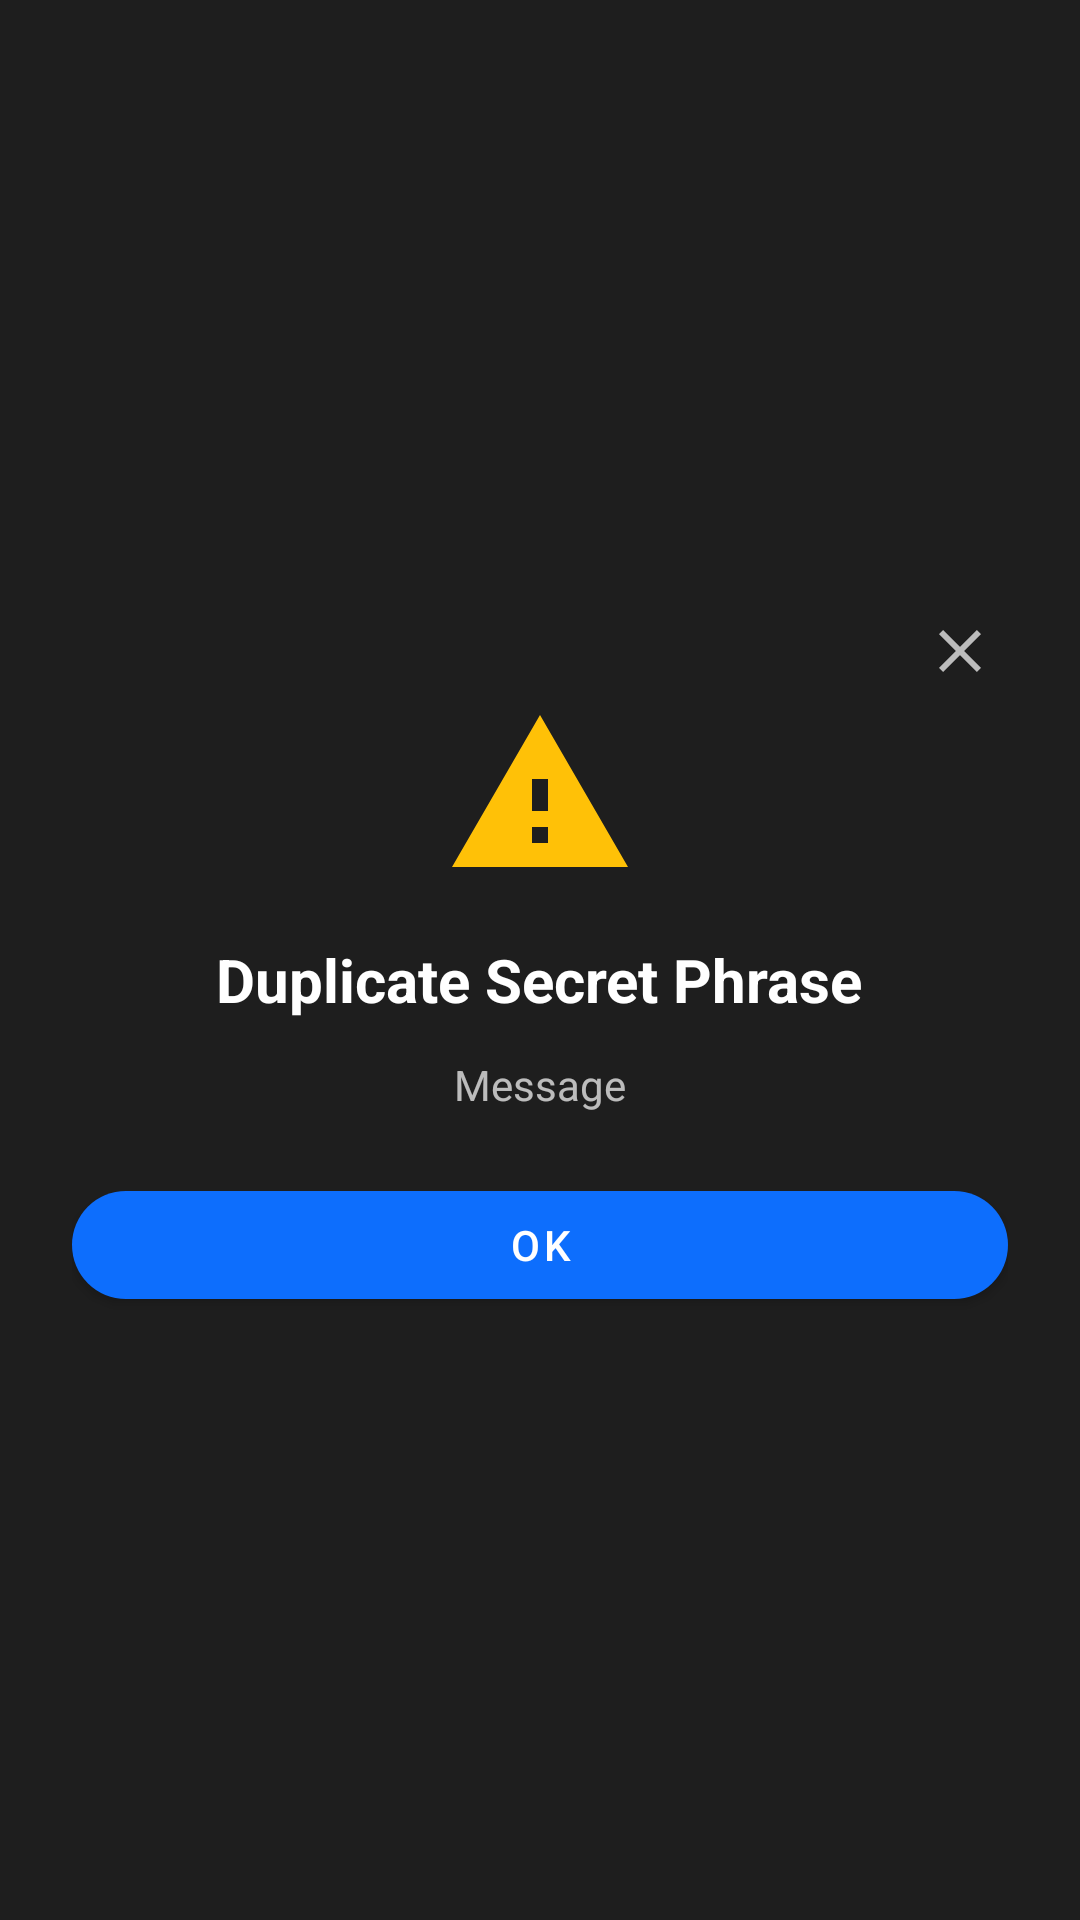

Named icons in this screenshot (1080 x 1920) and their bounding boxes, (x1, y1, x2, y2):
close: (939, 630, 981, 672)
warning: (452, 715, 628, 867)
